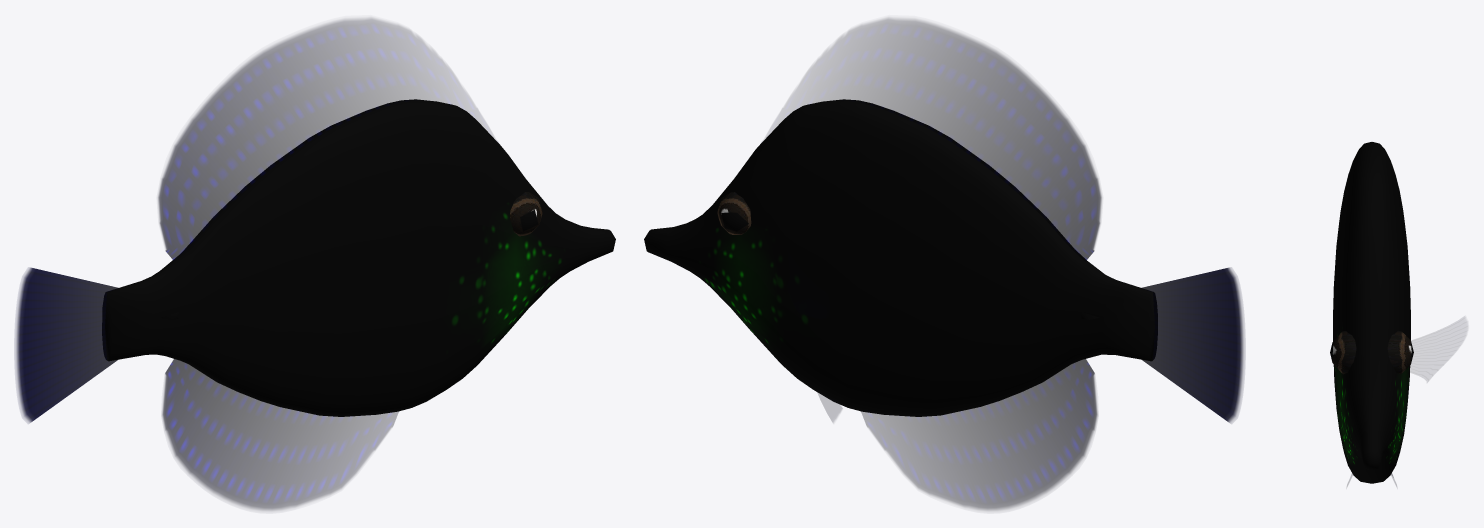
Rendered from gem_tang_lod1.glb.
3 renders of one model, left to right at view 1: azimuth 30°, elevation 25°; view 2: azimuth 150°, elevation 25°; view 3: azimuth 270°, elevation 25°, orthographic.
Visible parts, largest first — view 1: Body, FinDorsal, FinAnal, FinCaudal, EyeR; view 2: Body, FinDorsal, FinAnal, FinCaudal, FinPectoralL, EyeL; view 3: Body, FinPectoralL, EyeL, EyeR.
Boxes of the visible parts, x1,y1,x2,y2 form: Body: (102, 99, 615, 416); FinDorsal: (158, 18, 494, 261); FinAnal: (162, 359, 398, 510); FinCaudal: (15, 267, 119, 423); EyeR: (510, 192, 542, 236); Body: (644, 99, 1157, 416); FinDorsal: (765, 18, 1101, 261); FinAnal: (861, 359, 1097, 510); FinCaudal: (1140, 267, 1244, 423); FinPectoralL: (786, 250, 828, 317); EyeL: (717, 192, 751, 234); Body: (1333, 142, 1410, 483); FinPectoralL: (1410, 317, 1467, 381); EyeL: (1387, 330, 1413, 374); EyeR: (1330, 331, 1356, 374).
Size of the model in its own units: 1 by 0.7662 by 0.2831.
4 materials, 3 textured.
